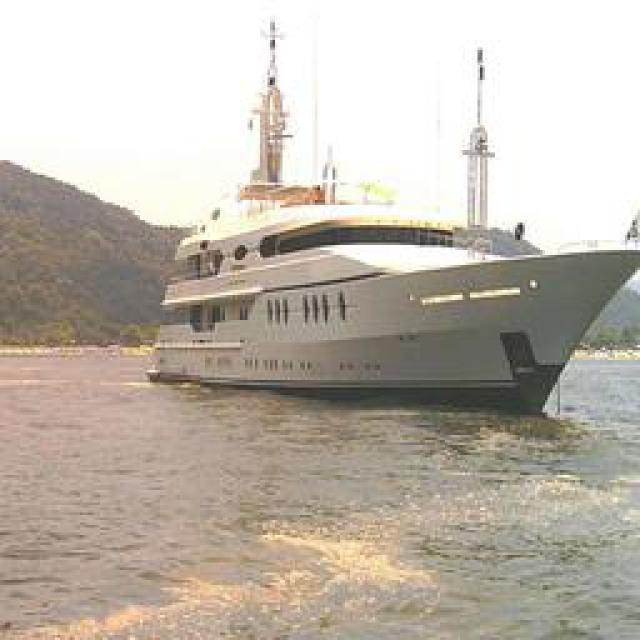Ship: (151, 232, 639, 412)
